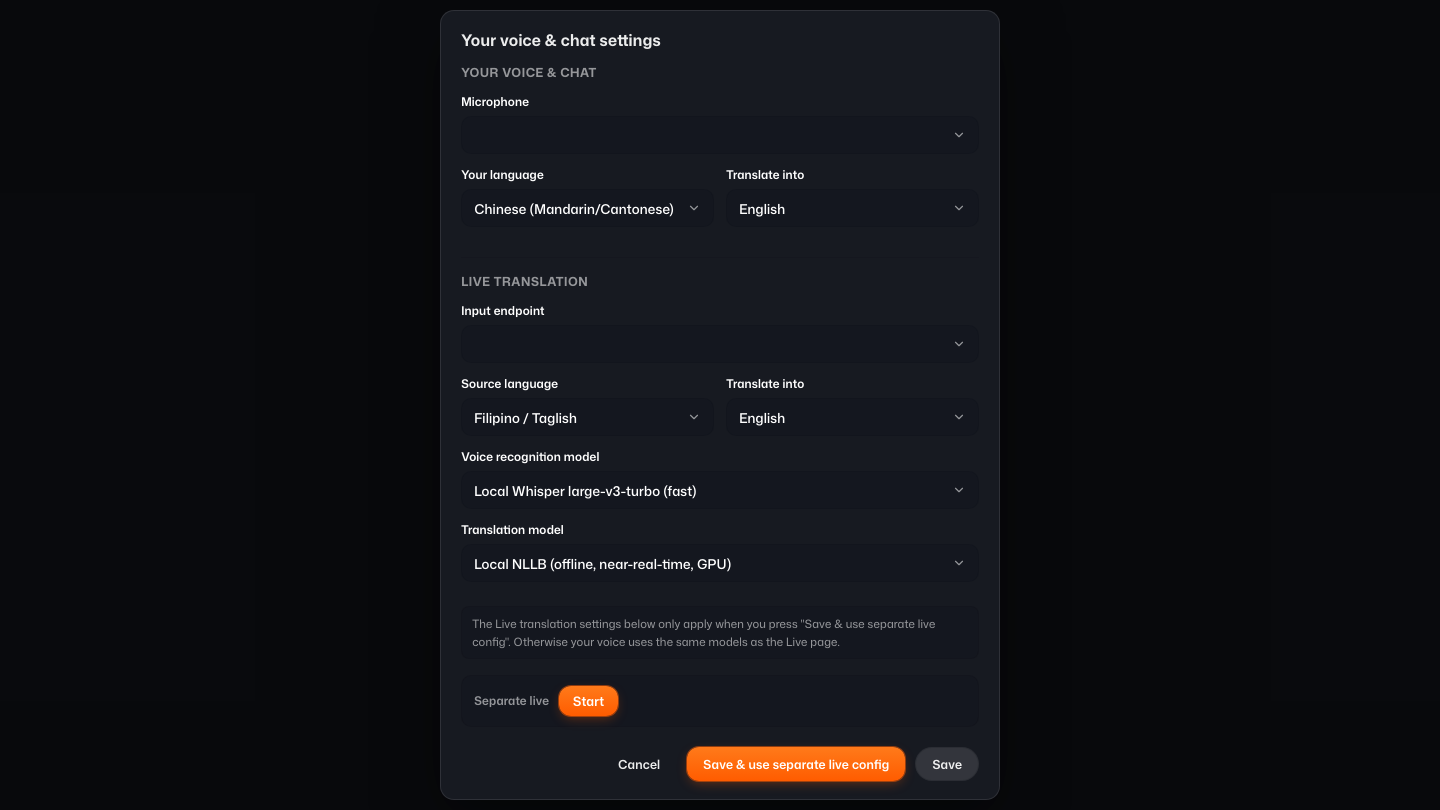
Test case: YouConfigDialog API credentials › shows only installed local models plus cloud models
# Installed local model is listed.
Click the dropdown named "voice recognition model" at x=585, y=490, box [461, 471, 979, 509]
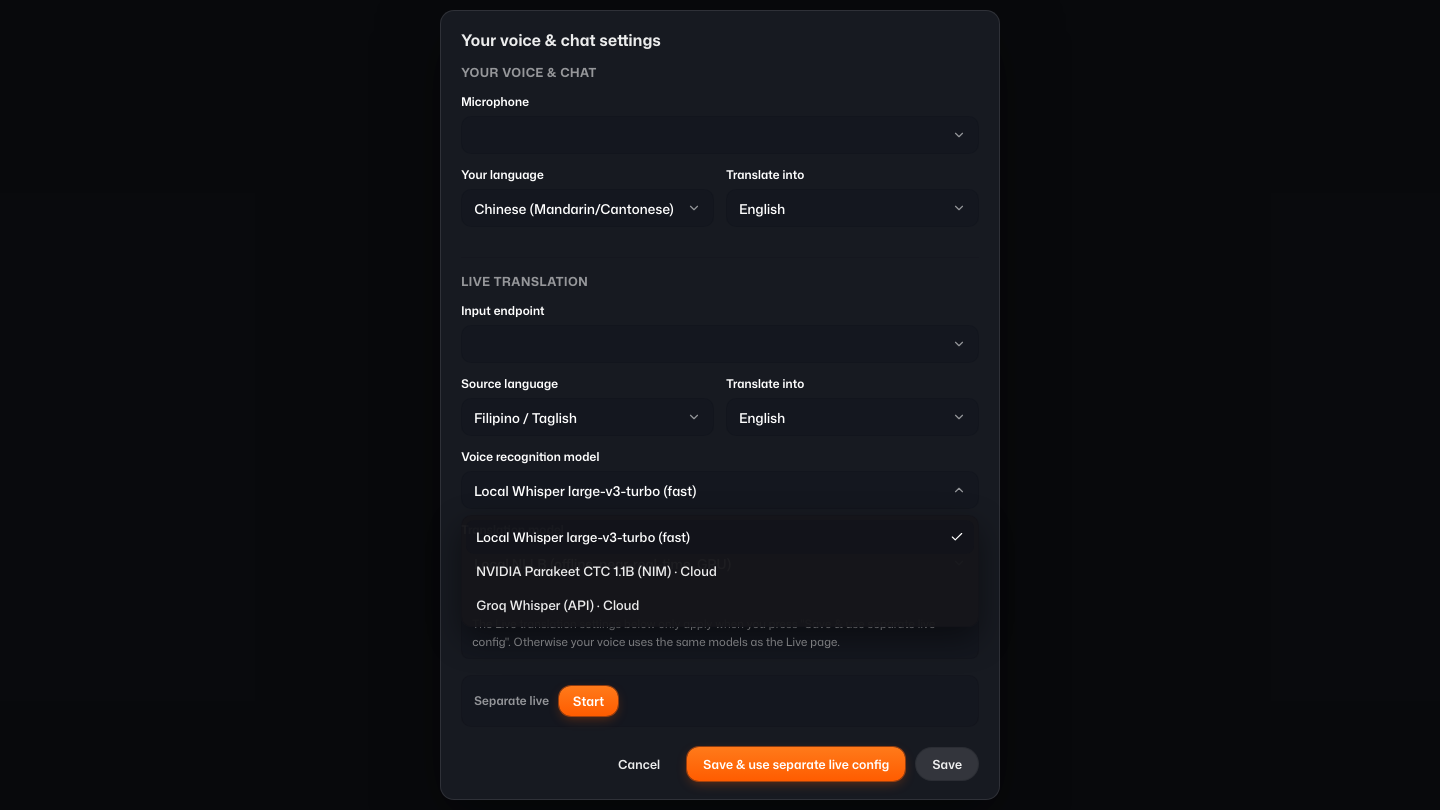
Expected: the option "Local Whisper large-v3-turbo (fast)" is shown, [466, 520, 974, 554]
Expected: the option "NVIDIA Parakeet CTC 1.1B (NIM) · Cloud" is shown, [476, 562, 717, 580]
Expected: the option "Groq Whisper (API) · Cloud" is shown, [476, 596, 639, 614]
